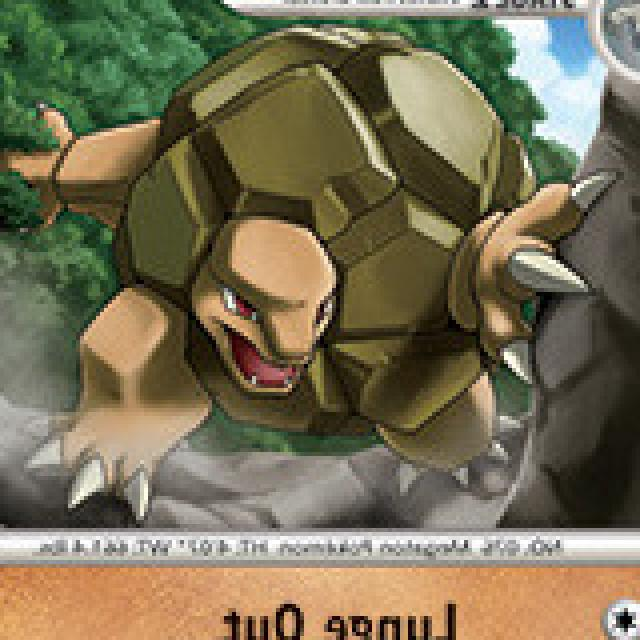Golem: (9, 18, 606, 510)
